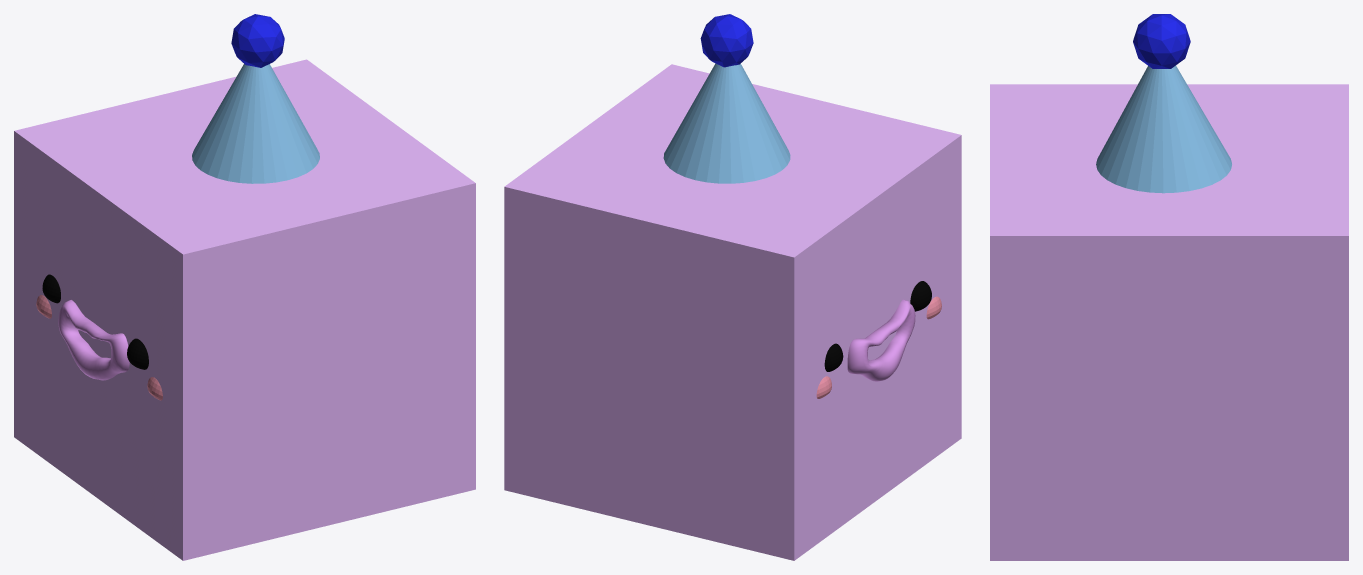
File: cube_partyboi.glb
3 renders of one model, left to right at view 1: azimuth 30°, elevation 25°; view 2: azimuth 150°, elevation 25°; view 3: azimuth 270°, elevation 25°, orthographic. The views are drawn at different scales.
Parts seen in each view (by area): view 1: body, hat; view 2: body, hat; view 3: body, hat.
Boxes of the visible parts, <box> form: body: <box>14,59,475,560</box>; hat: <box>192,14,319,183</box>; body: <box>504,64,961,560</box>; hat: <box>663,14,790,183</box>; body: <box>990,84,1348,560</box>; hat: <box>1096,14,1231,193</box>.
Size of the model in its own units: 1.29 by 1.79 by 1.23.
